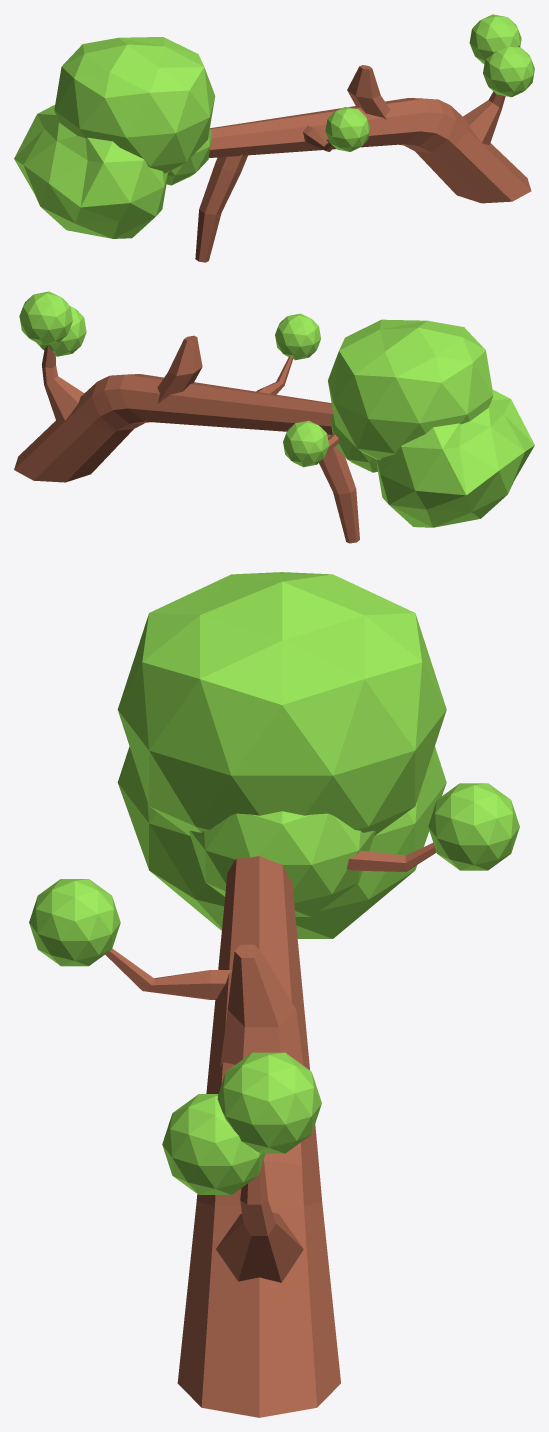
The model's file is agac_engel.fbx.
3 views of the same model, one above another, from view 1: azimuth 30°, elevation 25°; view 2: azimuth 150°, elevation 25°; view 3: azimuth 270°, elevation 25° (orthographic). The views are drawn at different scales.
Parts seen in each view (by area): view 1: Circle; view 2: Circle; view 3: Circle.
Boxes of the visible parts, <box> form: Circle: <box>14,14,534,262</box>; Circle: <box>14,291,534,543</box>; Circle: <box>29,572,519,1417</box>.
Size of the model in its own units: 1372 by 619 by 601.
